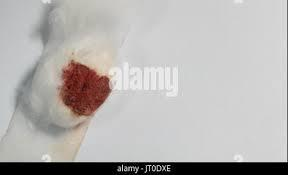cotton: (0, 0, 134, 160), (20, 0, 134, 127)
